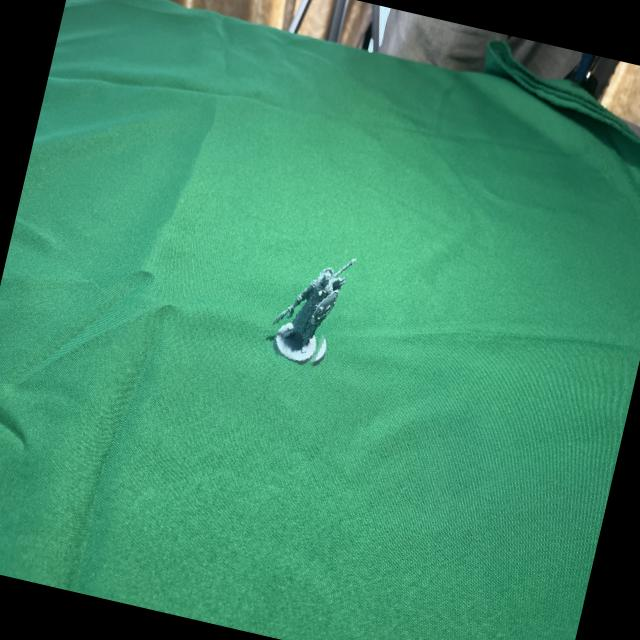isis_follower: (266, 231, 359, 372)
